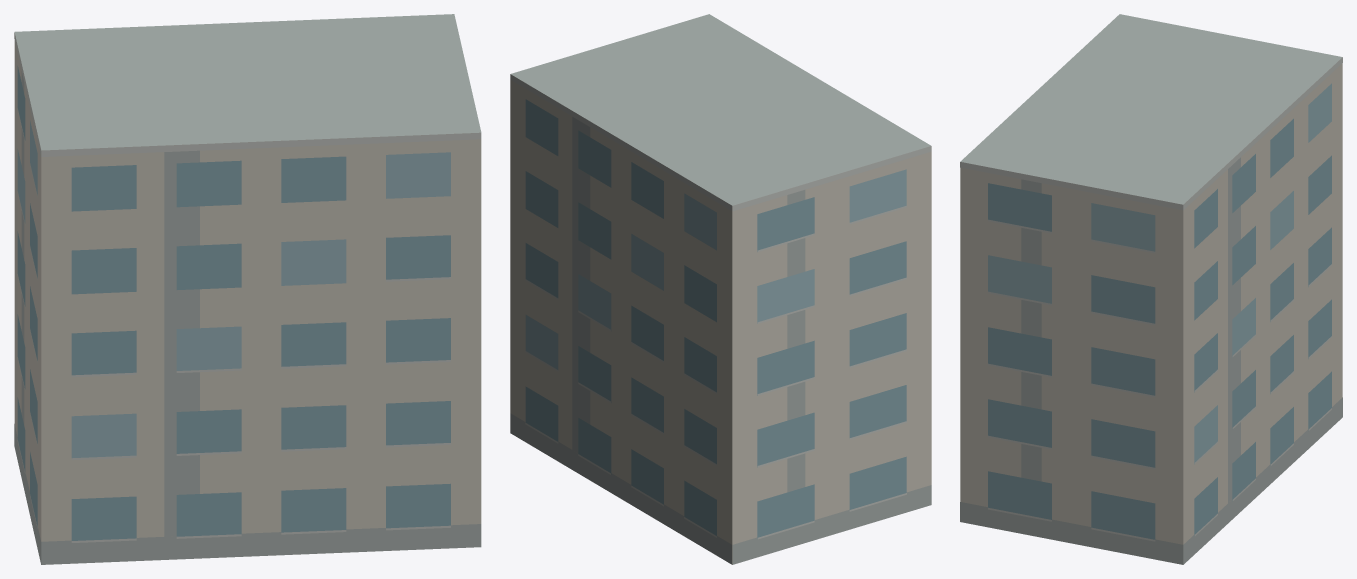
File: residential-8ae1f981-1957-4112-9fde-49db3ad63621.glb
3 renders of one model, left to right at view 1: azimuth 30°, elevation 25°; view 2: azimuth 150°, elevation 25°; view 3: azimuth 270°, elevation 25°, orthographic. The views are drawn at different scales.
Parts seen in each view (by area): view 1: residential-8ae1f981-1957-4112-9fde-49db3ad63621.tmp; view 2: residential-8ae1f981-1957-4112-9fde-49db3ad63621.tmp; view 3: residential-8ae1f981-1957-4112-9fde-49db3ad63621.tmp.
Part boxes in pixels (left/top/right/bottom): residential-8ae1f981-1957-4112-9fde-49db3ad63621.tmp: left=14, top=14, right=481, bottom=564; residential-8ae1f981-1957-4112-9fde-49db3ad63621.tmp: left=510, top=14, right=931, bottom=564; residential-8ae1f981-1957-4112-9fde-49db3ad63621.tmp: left=960, top=14, right=1342, bottom=564.
Bounding box in the file's own units: 17.33 × 15.25 × 14.69.
